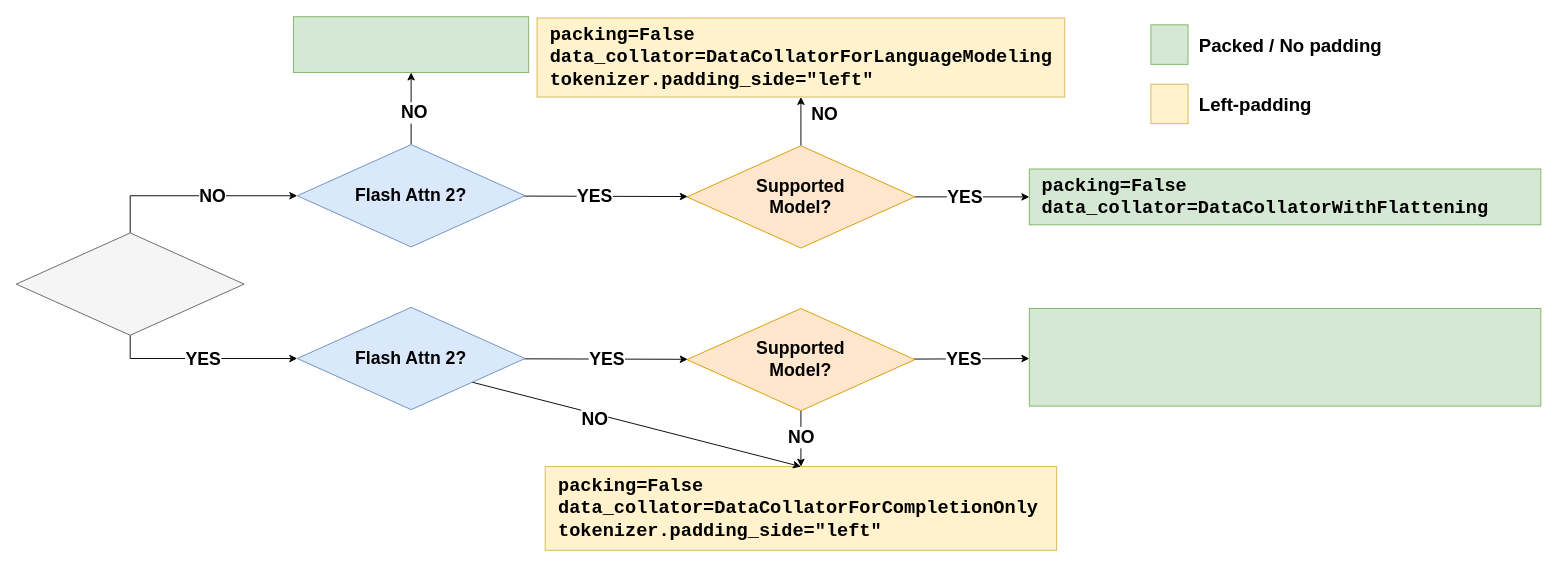
This 1558x566 diagram has some shape labels left out. The box of each missing label's shape, as (x1, y1, x2, y2) in pixels:
Completions Only?: (15, 232, 244, 335)
packing=False data_collator=DataCollatorForCompletionOnly( padding_free=True ): (1028, 308, 1541, 406)
packing=True data_collator=None: (293, 16, 529, 73)
